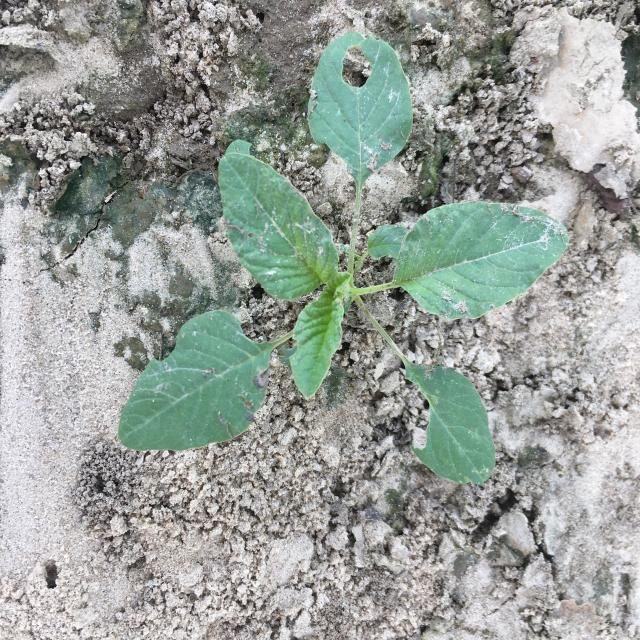PalmerAmaranth: (117, 31, 570, 487)
